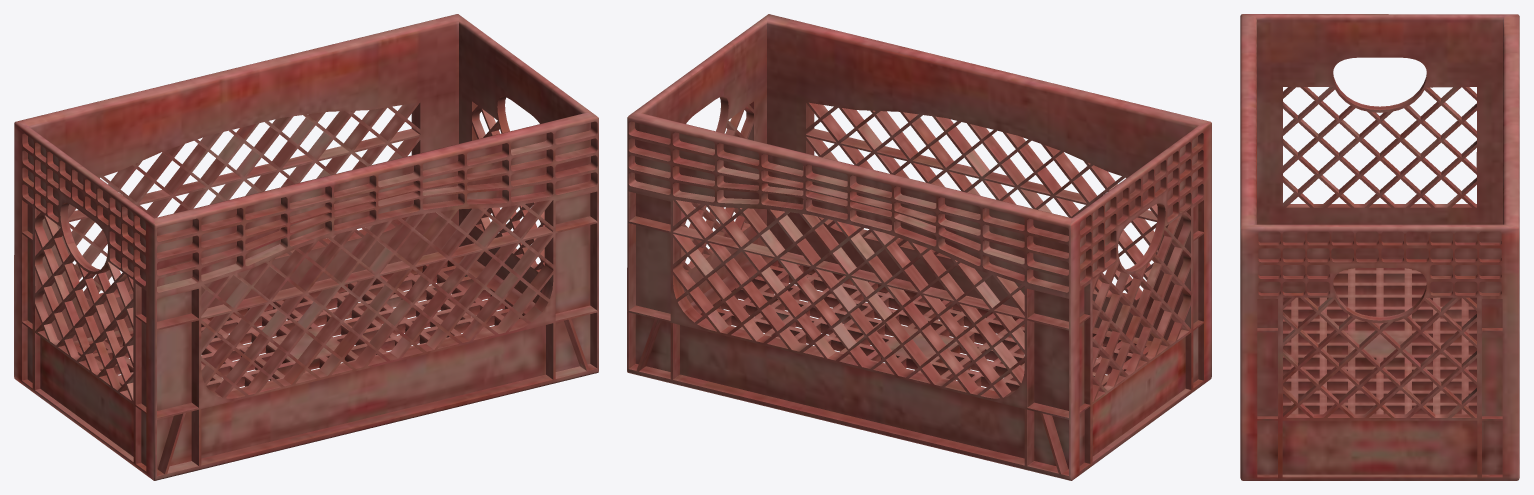
The picture shows the model from 3 angles, left to right: view 1: azimuth 30°, elevation 25°; view 2: azimuth 150°, elevation 25°; view 3: azimuth 270°, elevation 25°; orthographic projection.
Visible parts, largest first — view 1: plastic_crate_03; view 2: plastic_crate_03; view 3: plastic_crate_03.
Part boxes in pixels (x1,y1,x2,y2): plastic_crate_03: (14,14,598,480); plastic_crate_03: (627,14,1211,480); plastic_crate_03: (1240,14,1519,480).
Size of the model in its own units: 0.4811 by 0.2659 by 0.265.
1 material, 1 textured.
